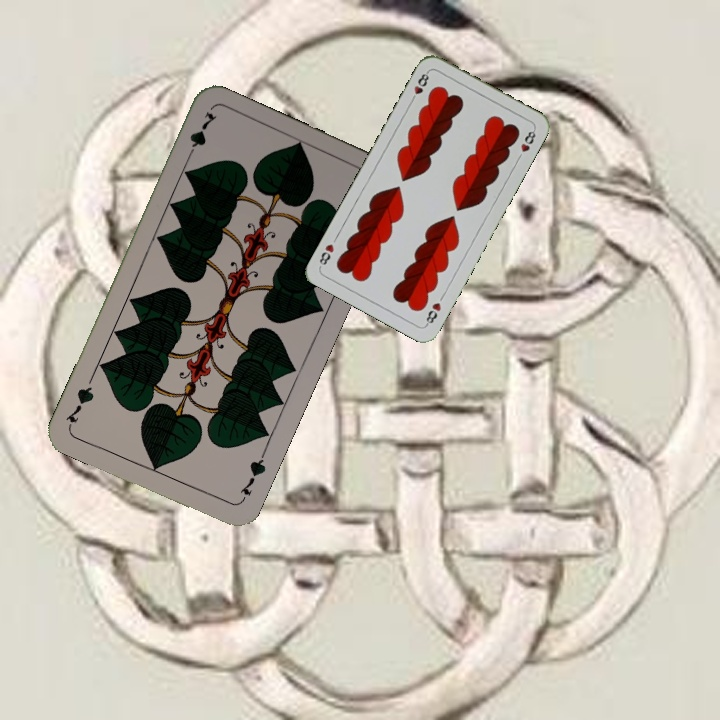G7: (182, 107, 219, 163), (235, 449, 269, 505)
H8: (407, 67, 432, 105), (422, 298, 444, 328)
